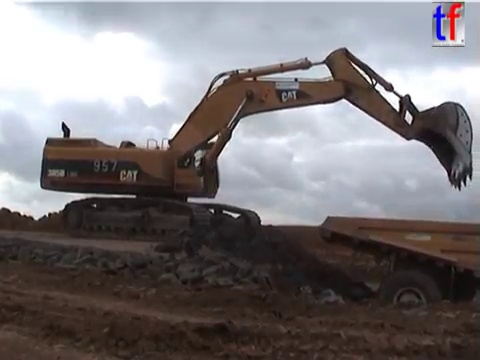excavator: (36, 44, 476, 245)
truck: (314, 213, 480, 337)
